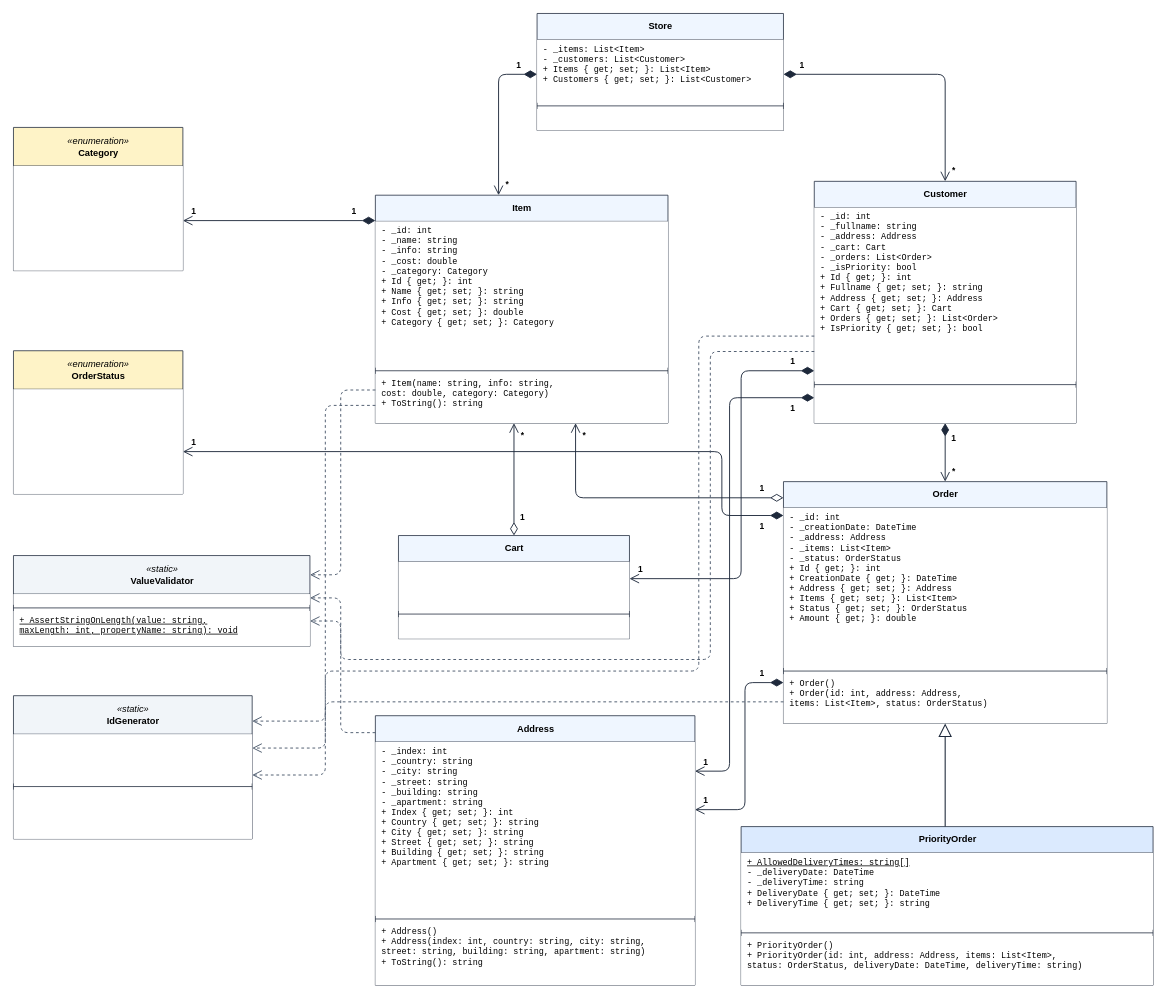
This 1167x1001 diagram has some shape labels left out. Here are the shapes that lost their labels. From the top down, the centre of each, then its label:
At pixel 660 119: "+ Store()".
At pixel 97 218: "Electronics Clothes Shoes Books Food Sport Home".
At pixel 945 405: "+ Customer(fullname: string) + ToString(): string".
At pixel 97 441: "New Processing Assembly Sent Delivered Returned Abandoned".
At pixel 513 586: "- _items: List<Item> + Items { get; set; }: List<Item> + Amount { get; }: double".
At pixel 513 627: "+ Cart()".
At pixel 132 758: "- _nextItemId: int - _nextCustomerId: int - _nextOrderId: int".
At pixel 132 814: "+ GetNextItemId(): int + GetNextCustomerId(): int + GetNextOrderId(): int".
